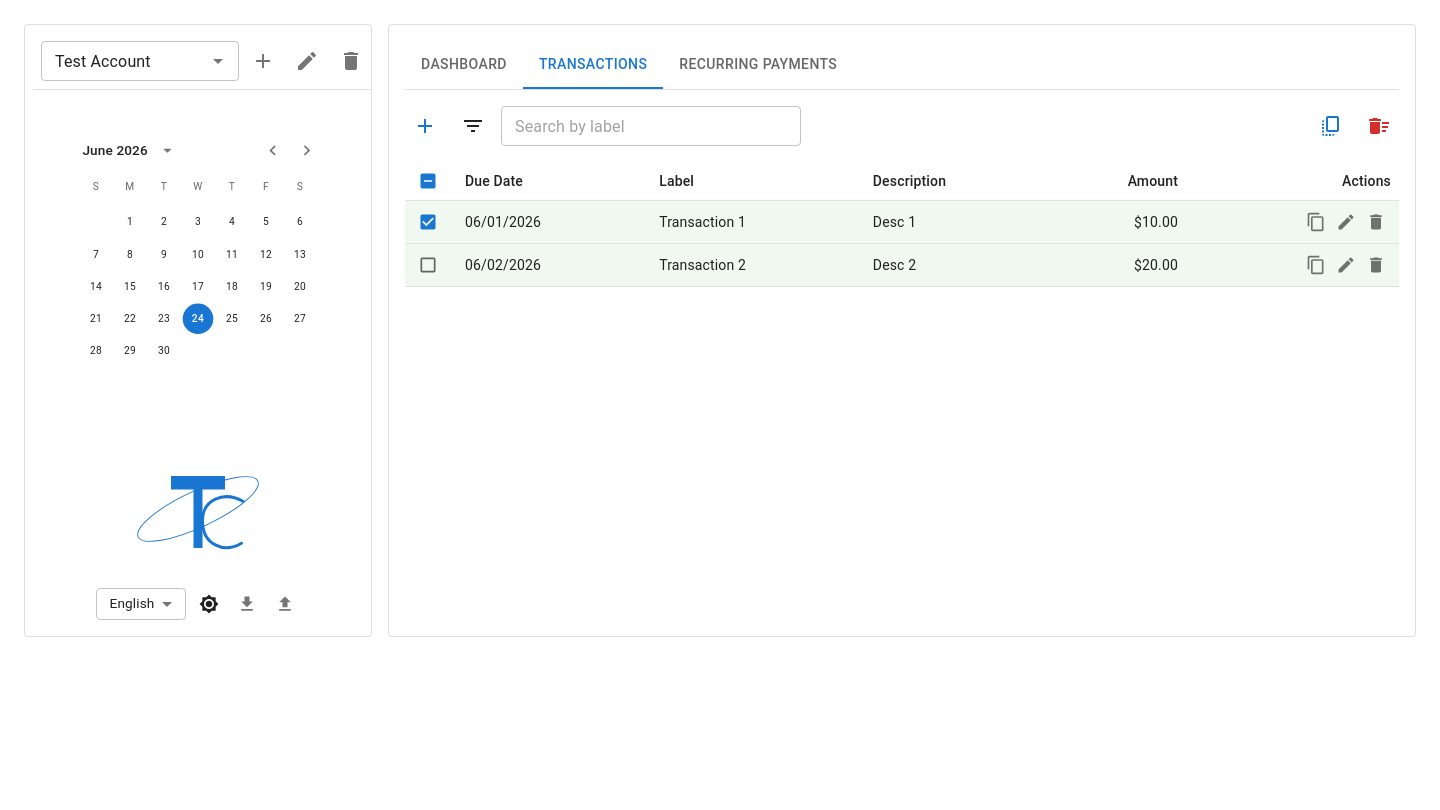
Test case: TransactionEditionArea › opens confirm dialog when remove selected button is clicked
This screenshot has width=1440, height=810.
Expected: the text "Transaction 1" is shown, [643,201,857,244]
Click the button named "remove selected". click: (1379, 126)
box: [1359,106,1399,146]
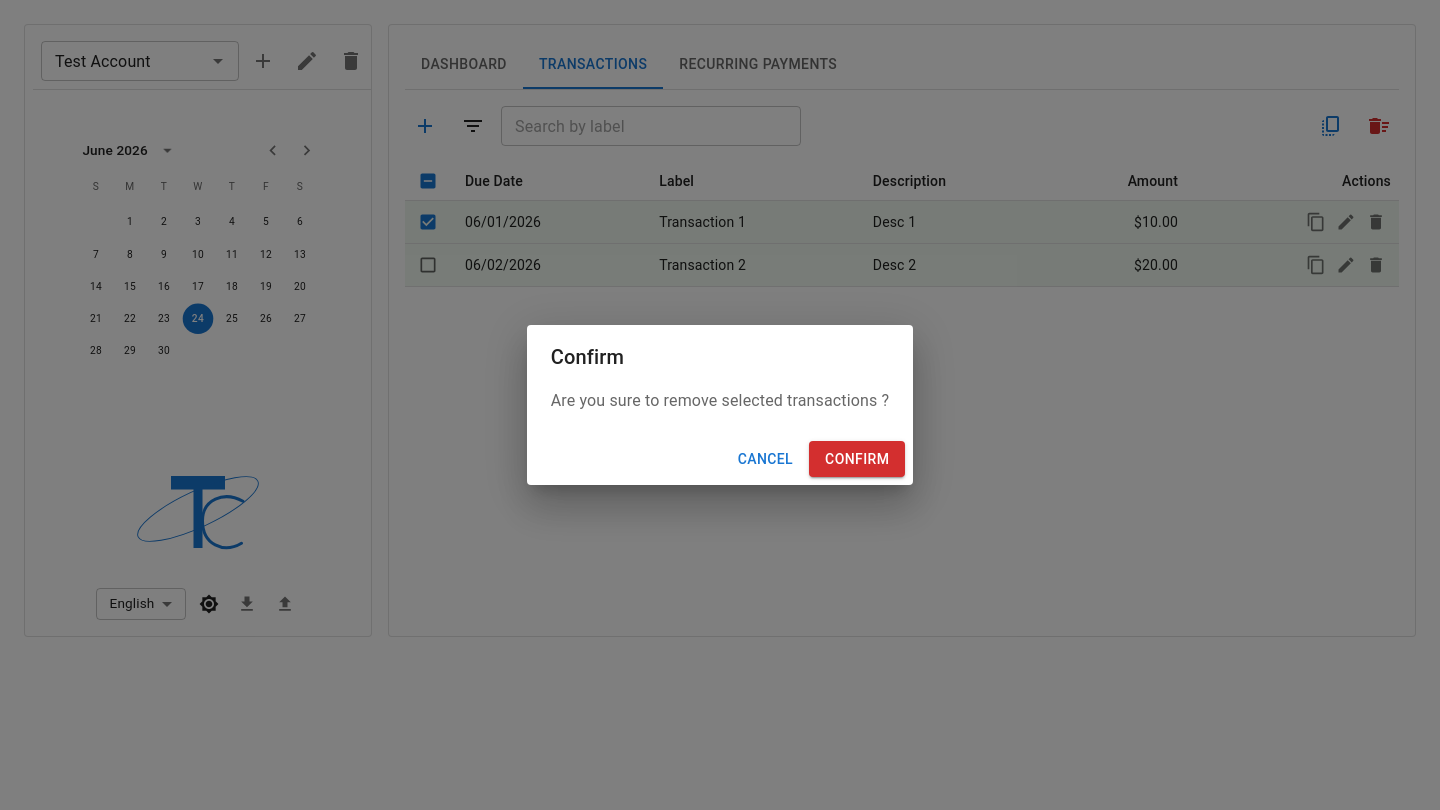
Expected: the text "Are you sure to remove selected transactions ?" is shown, [551,389,889,413]
